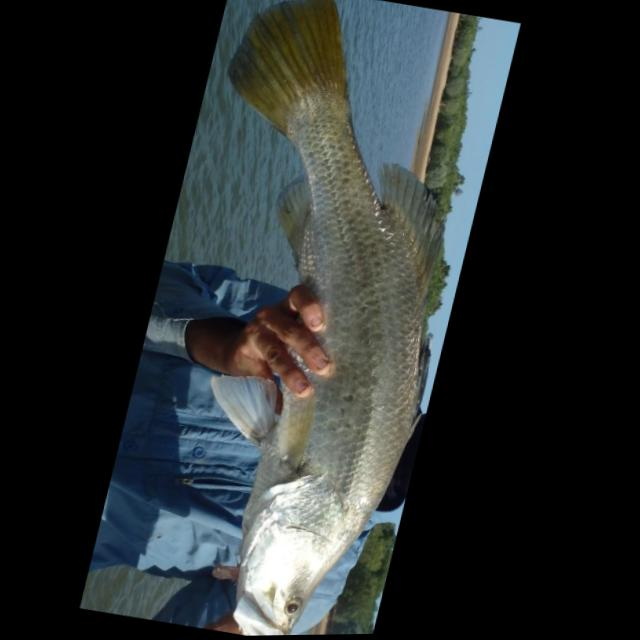Seabass: (93, 0, 518, 638)
